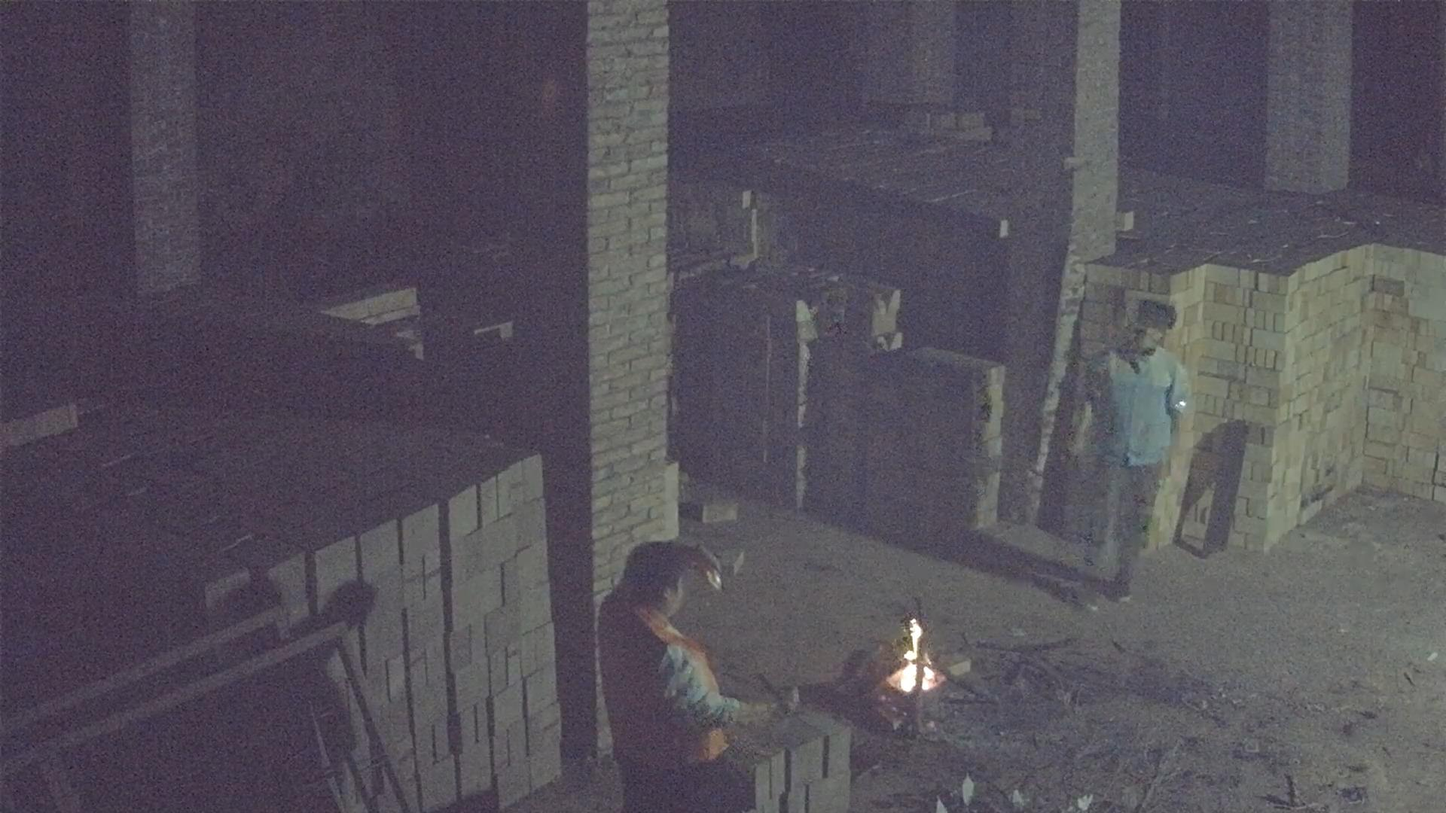fire: (881, 616, 945, 696)
